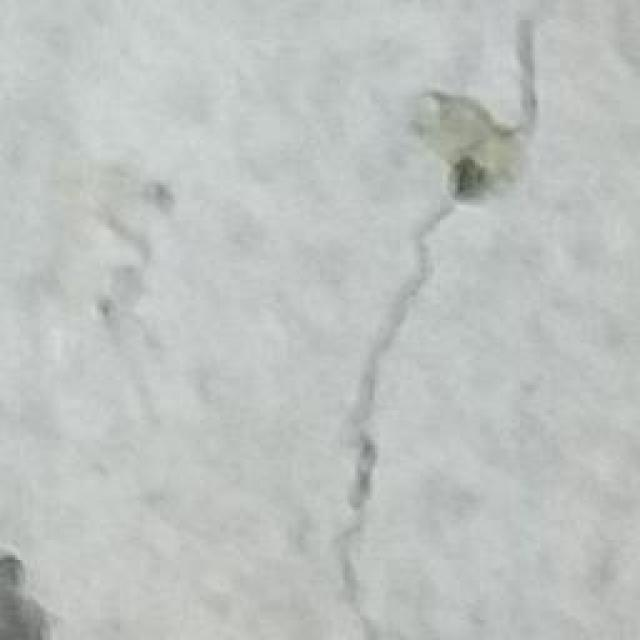Longitudinal: (340, 0, 562, 640)
